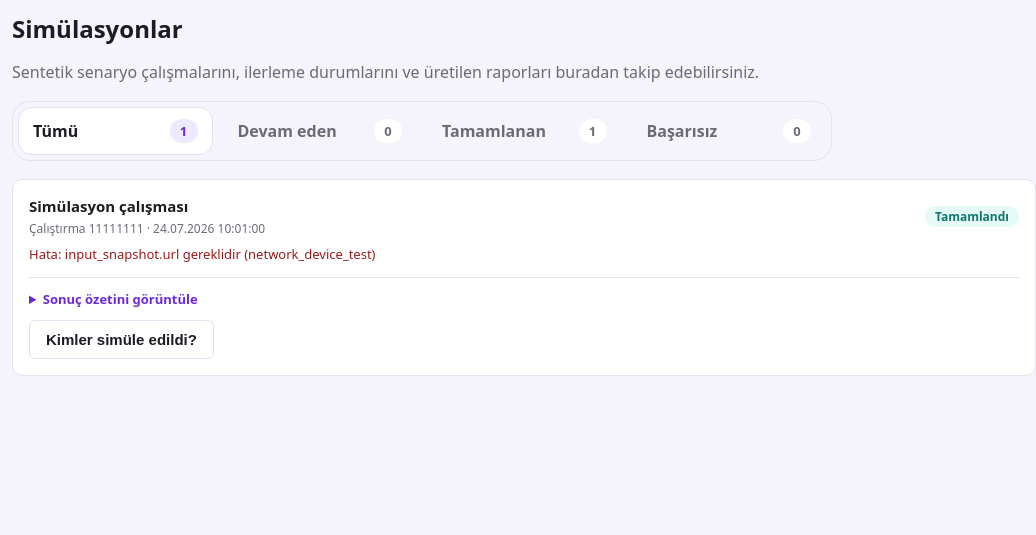
Test case: Simulations - 'Kimler simüle edildi?' persona paneli › run.persona_count agirlik toplamindan farkliysa uyari gosterir
Expected: the text "Çalıştırma 11111111 · 24.07.2026 10:01:00" is shown, 29,220 -> 265,237
Click the button "Kimler simüle edildi?".
click(121, 340)  # box 29,320 -> 214,359
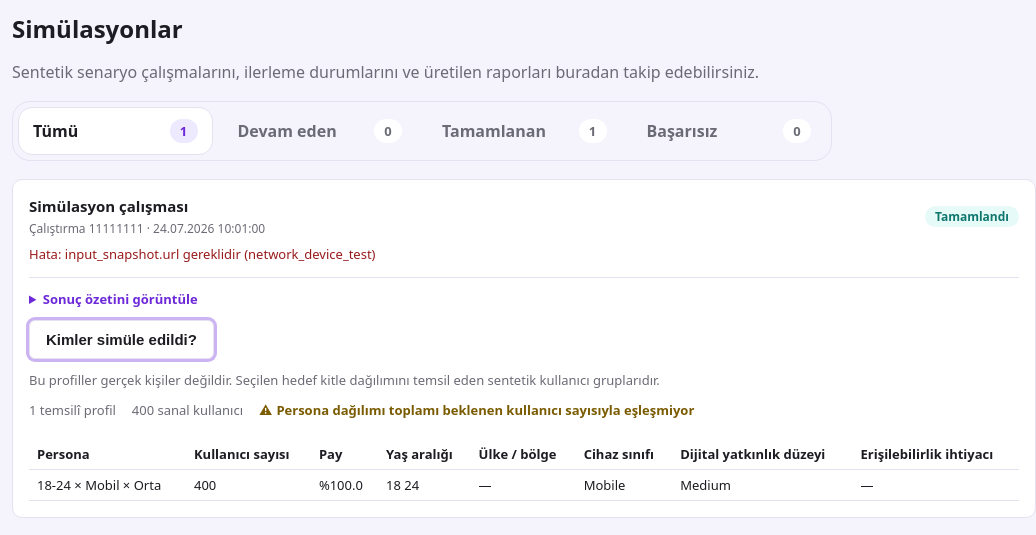
Result: the text "400 sanal kullanıcı" is shown at 132,401 -> 243,419
Result: the text "⚠ Persona dağılımı toplamı beklenen kullanıcı sayısıyla eşleşmiyor" is shown at 259,401 -> 694,419
